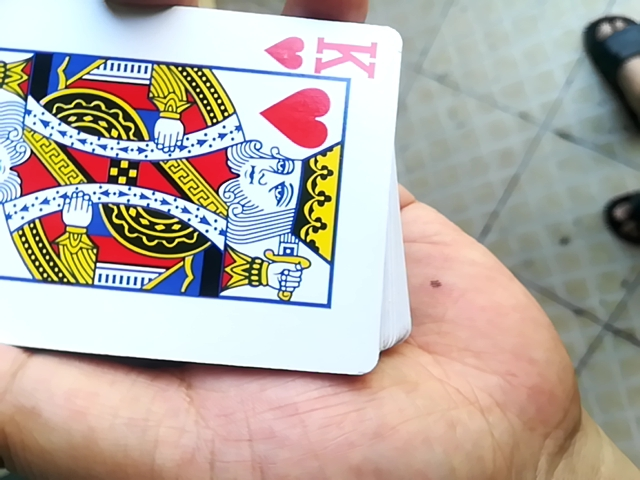hx k: (0, 4, 396, 381)
